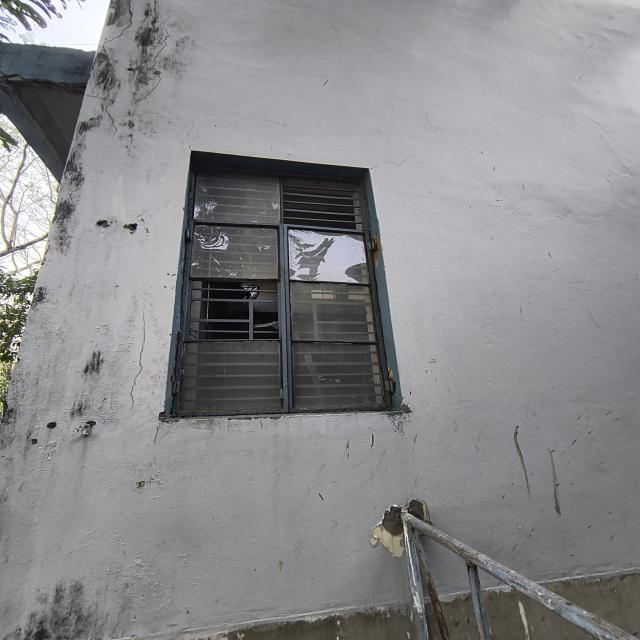Broken window pane: (168, 151, 405, 419)
Corrosion: (416, 549, 450, 640)
Crack: (17, 93, 58, 154), (129, 293, 148, 412), (101, 0, 135, 51), (85, 92, 119, 139), (131, 71, 164, 105), (152, 16, 171, 67)
Paint Peeling: (9, 401, 214, 625)
Scaling: (371, 499, 431, 557), (0, 74, 86, 96)
pollution -moisture induced blackening: (0, 283, 53, 503), (117, 0, 194, 146), (45, 113, 103, 256), (3, 580, 129, 640), (66, 347, 109, 421), (88, 44, 121, 108)
